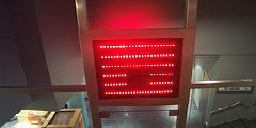LED: (98, 43, 182, 99)
